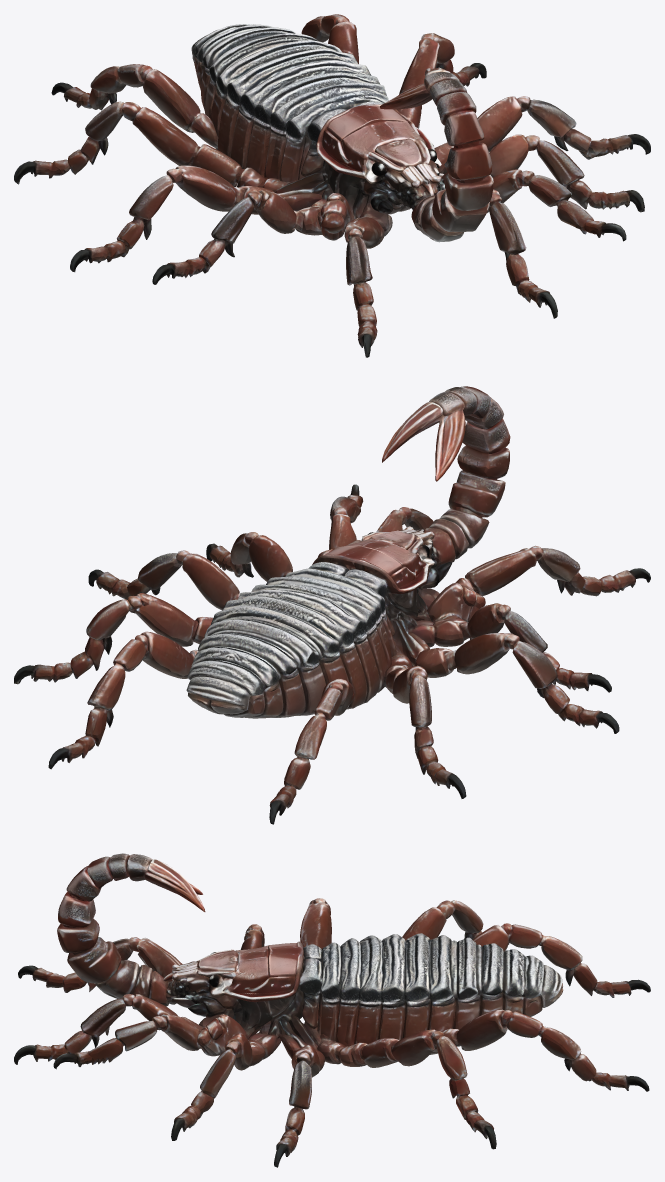
The model's file is scorpion_body_rodin_source.glb.
The picture shows the model from 3 angles, top to bottom: view 1: azimuth 30°, elevation 25°; view 2: azimuth 150°, elevation 25°; view 3: azimuth 270°, elevation 25°; orthographic projection. The views are drawn at different scales.
Visible parts, largest first — view 1: model; view 2: model; view 3: model.
Boxes of the visible parts, x1,y1,x2,y2 form: model: [14, 14, 650, 357]; model: [14, 386, 650, 824]; model: [14, 853, 650, 1167].
Bounding box in the file's own units: 1.74 × 0.6182 × 1.9.
Materials: 1 (1 with a texture image).
